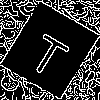T: (25, 25, 76, 80)
